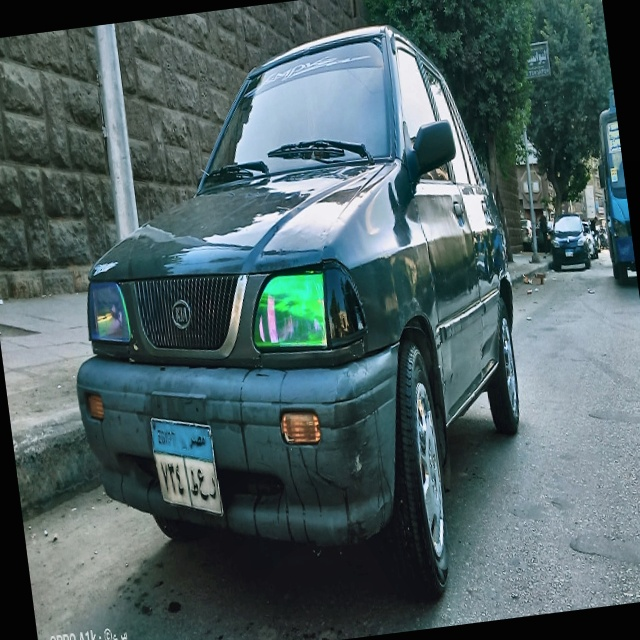License Plate: (147, 408, 226, 527)
